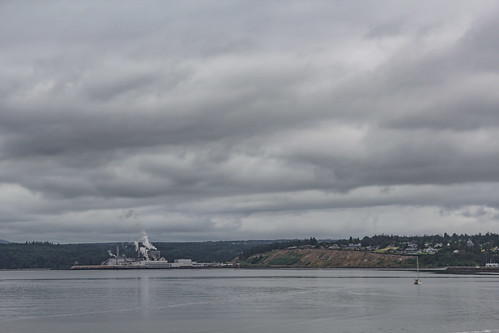sea: (2, 271, 499, 333)
sky: (1, 1, 499, 231)
